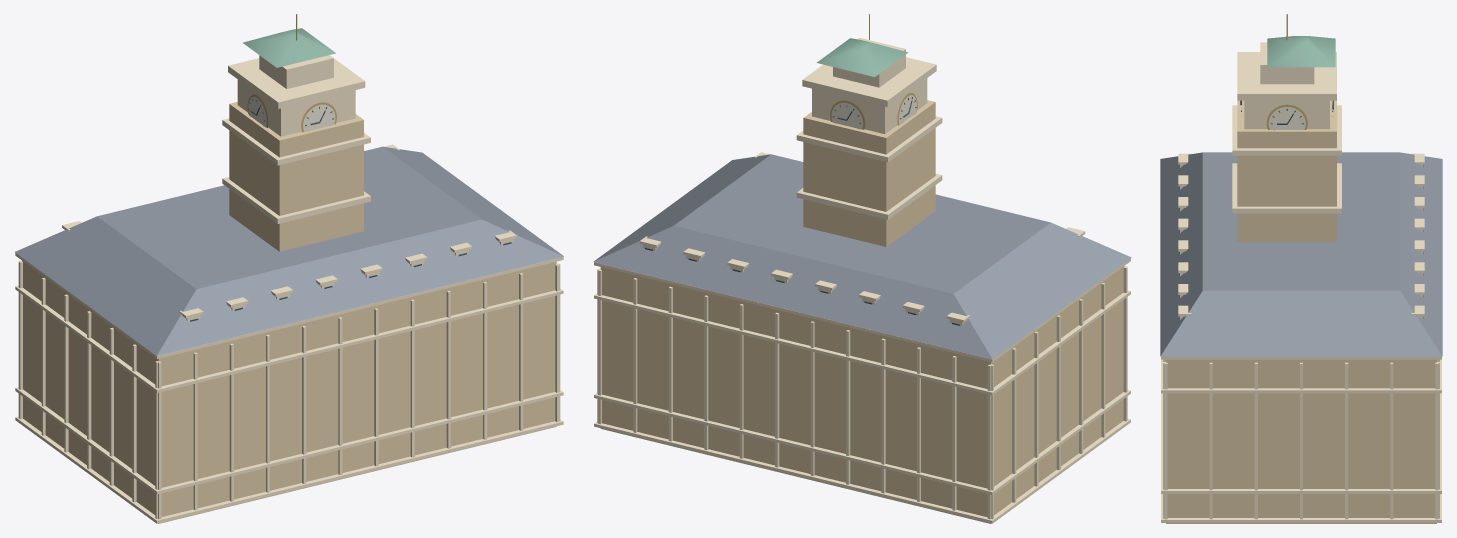
The model's file is customs-lod0.glb.
3 views of the same model, side by side, from view 1: azimuth 30°, elevation 25°; view 2: azimuth 150°, elevation 25°; view 3: azimuth 270°, elevation 25° (orthographic). The views are drawn at different scales.
Parts seen in each view (by area): view 1: customs_architecture; view 2: customs_architecture; view 3: customs_architecture.
Boxes of the visible parts, left/top/right/bottom form: customs_architecture: left=15, top=14, right=563, bottom=523; customs_architecture: left=593, top=14, right=1131, bottom=523; customs_architecture: left=1160, top=14, right=1442, bottom=523.
Size of the model in its own units: 32.8 by 32 by 19.8.
